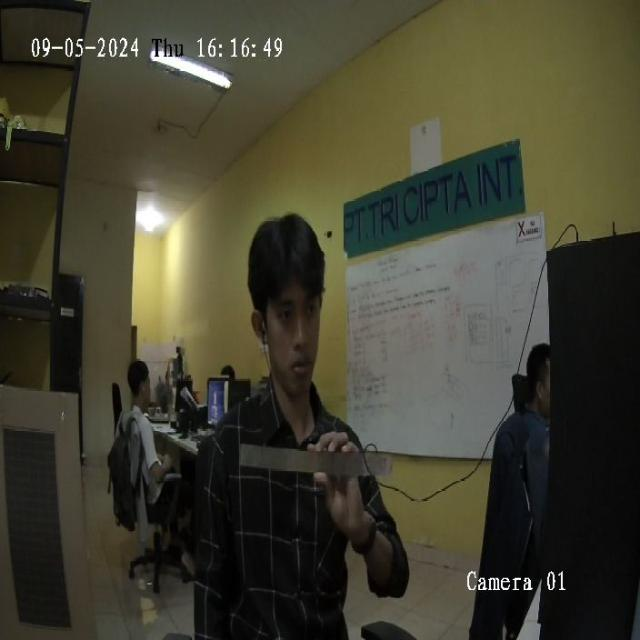Ruler: (240, 443, 392, 477)
